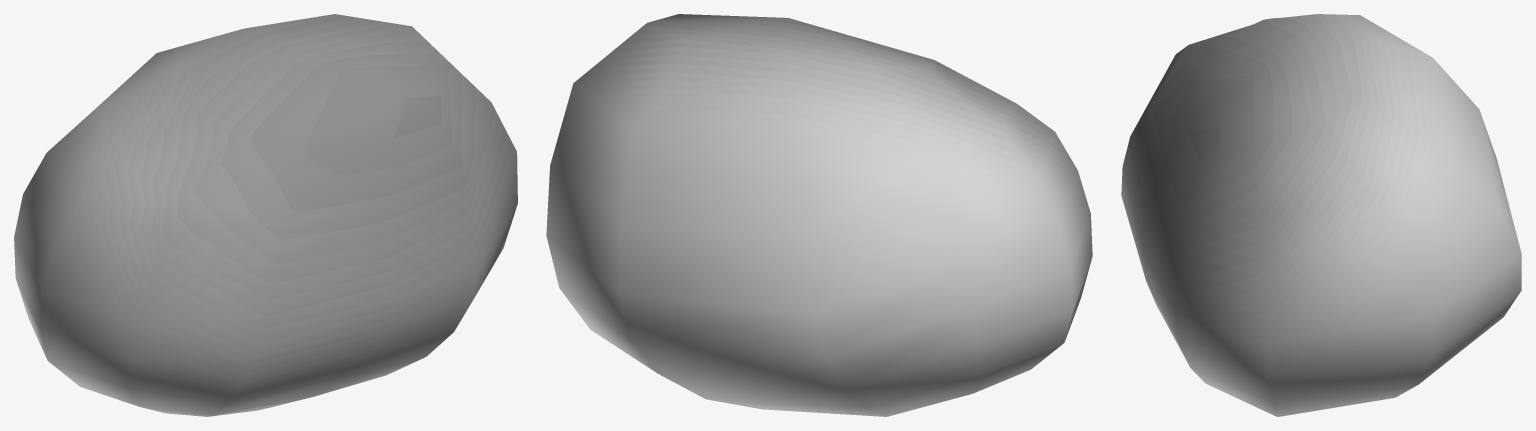
File: SM_Rock_01.fbx
3 renders of one model, left to right at view 1: azimuth 30°, elevation 25°; view 2: azimuth 150°, elevation 25°; view 3: azimuth 270°, elevation 25°, orthographic. The views are drawn at different scales.
Parts seen in each view (by area): view 1: SM_Rock_01; view 2: SM_Rock_01; view 3: SM_Rock_01.
Boxes of the visible parts, left/top/right/bottom form: SM_Rock_01: left=14, top=14, right=517, bottom=416; SM_Rock_01: left=546, top=14, right=1092, bottom=416; SM_Rock_01: left=1121, top=14, right=1521, bottom=416.
Size of the model in its own units: 512 by 347 by 384.
1 material, 1 textured.
